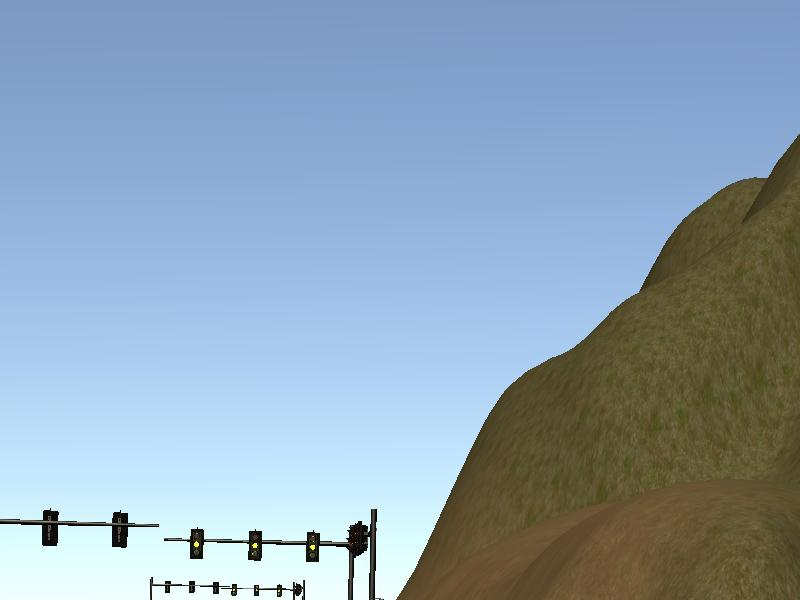yellow_light: (192, 529, 205, 559), (250, 531, 261, 557), (308, 533, 318, 558)
